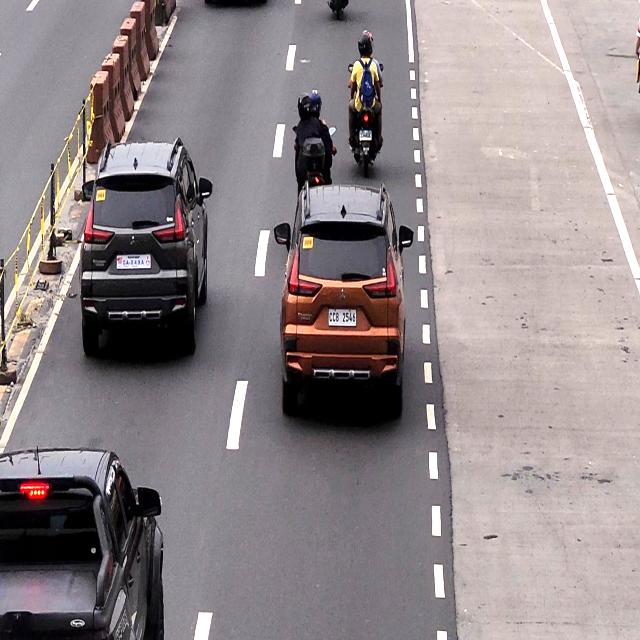Car: (0, 457, 162, 640), (284, 186, 404, 417), (86, 140, 208, 354)
License-Plate: (114, 252, 153, 273), (328, 307, 358, 327)
Motorcycle: (349, 32, 383, 174), (290, 89, 337, 188)
